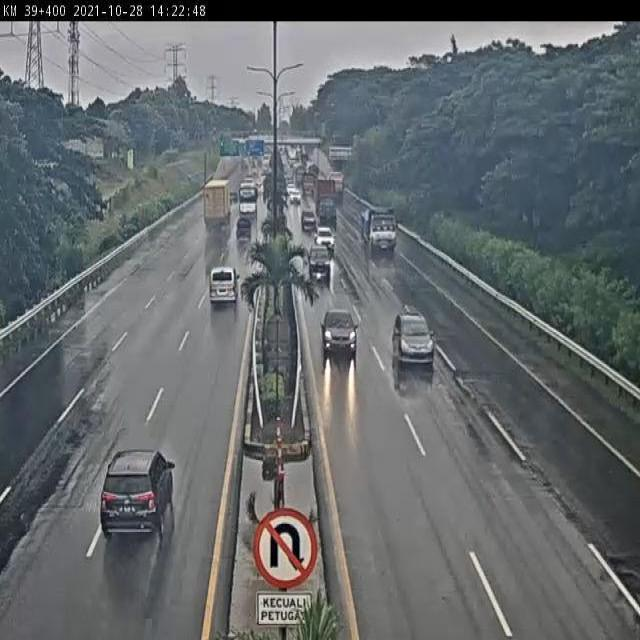car: (99, 447, 178, 548), (392, 310, 434, 370), (208, 264, 242, 307), (307, 243, 335, 280)
truck-l-: (360, 205, 402, 258)
